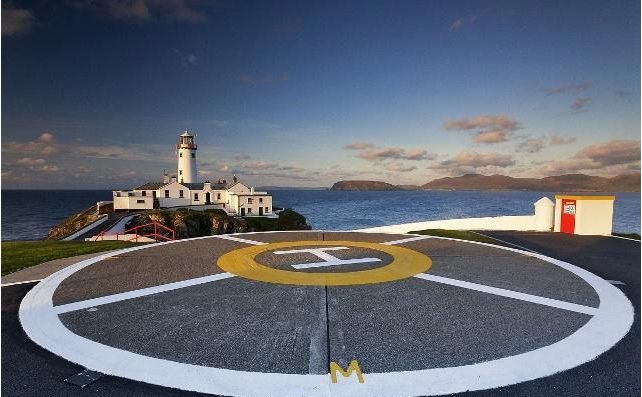H: (273, 246, 383, 269)
